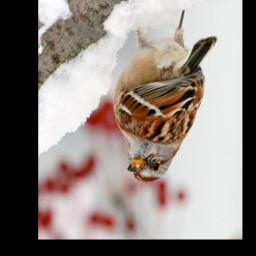Sparrow: (112, 8, 217, 184)
